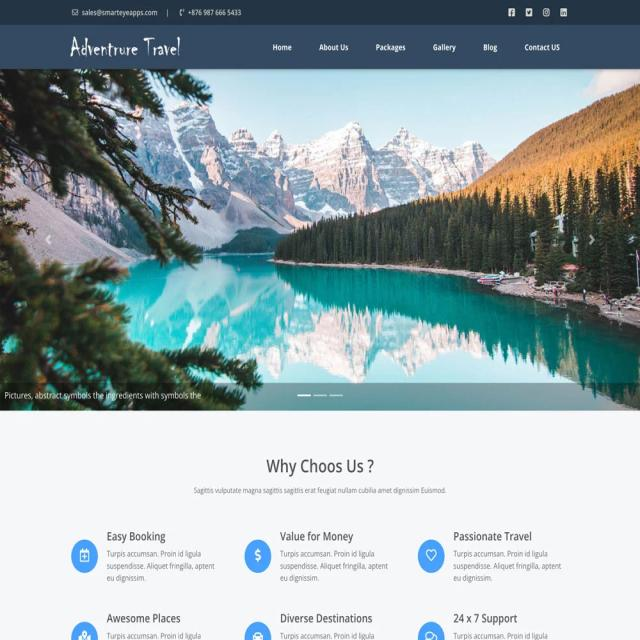Image: (0, 66, 639, 380)
Navigation-dots: (298, 392, 347, 399)
buttons: (318, 40, 350, 53), (526, 44, 560, 53), (432, 43, 458, 52), (272, 42, 294, 52), (378, 45, 404, 51), (485, 41, 498, 53), (507, 7, 515, 18), (525, 7, 533, 18), (561, 6, 567, 18), (542, 8, 550, 16)
links: (71, 7, 154, 19), (181, 9, 243, 16)
text: (104, 530, 212, 581), (456, 530, 554, 586), (277, 530, 383, 580), (268, 454, 376, 482), (104, 610, 204, 640), (69, 34, 184, 59), (276, 614, 376, 640), (455, 612, 546, 640)
